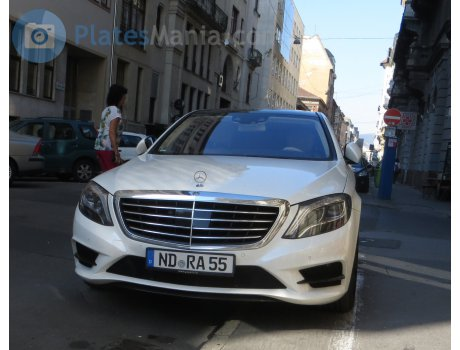License Plates: (160, 252, 229, 268)
